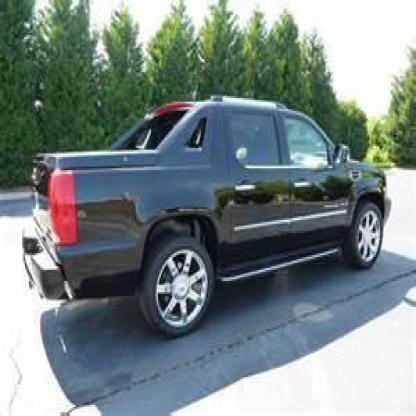car: (15, 93, 416, 366)
